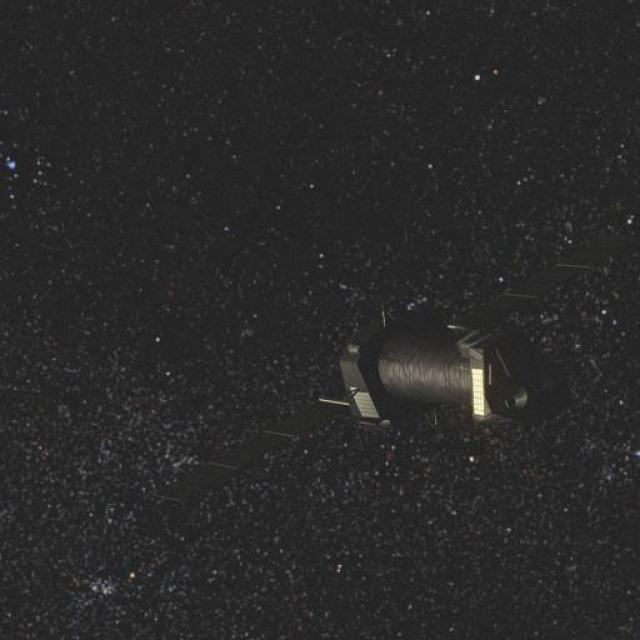xmm_newton: (297, 299, 559, 447)
